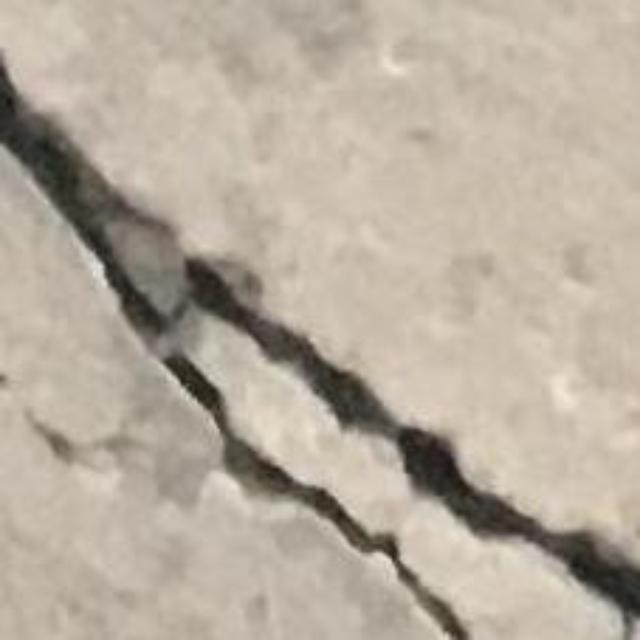crack: (0, 54, 639, 639)
